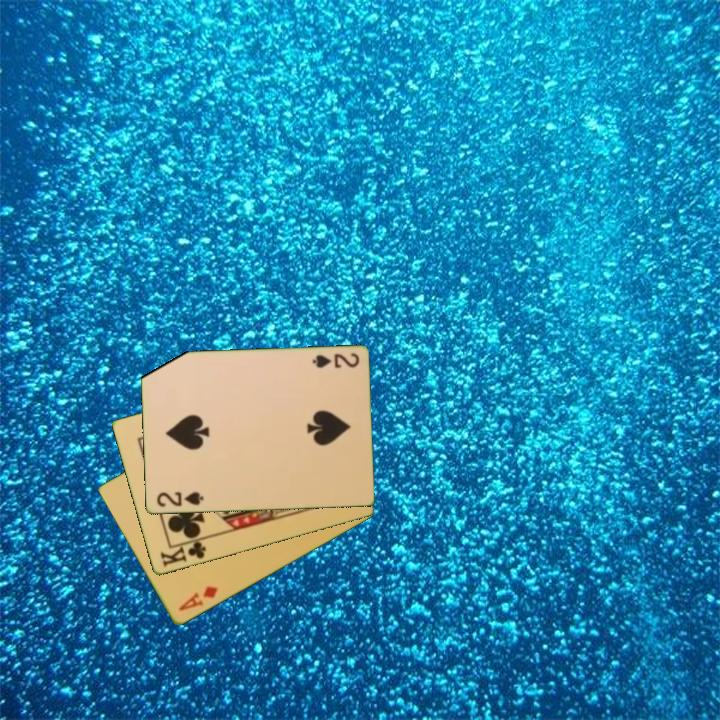2s: (153, 488, 206, 510), (309, 350, 362, 371)
Ad: (175, 583, 221, 614)
Kc: (156, 535, 209, 571)
